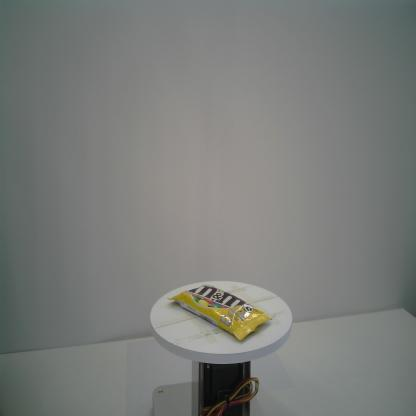Chocolate: (167, 284, 273, 341)
